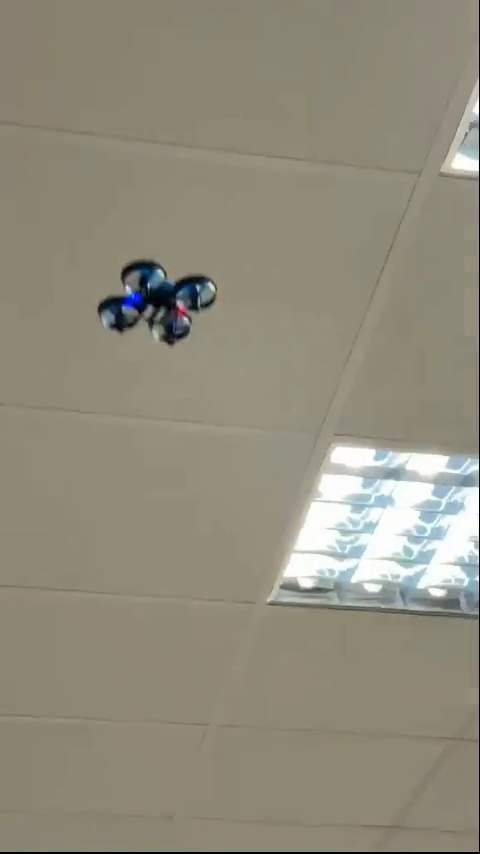drone: (96, 253, 218, 351)
